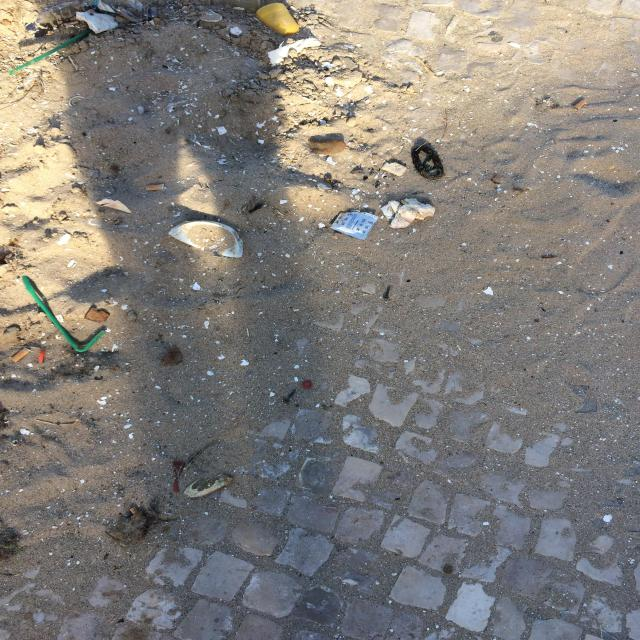litter: (25, 1, 157, 37), (381, 198, 435, 229), (330, 212, 379, 240), (256, 3, 299, 33)
